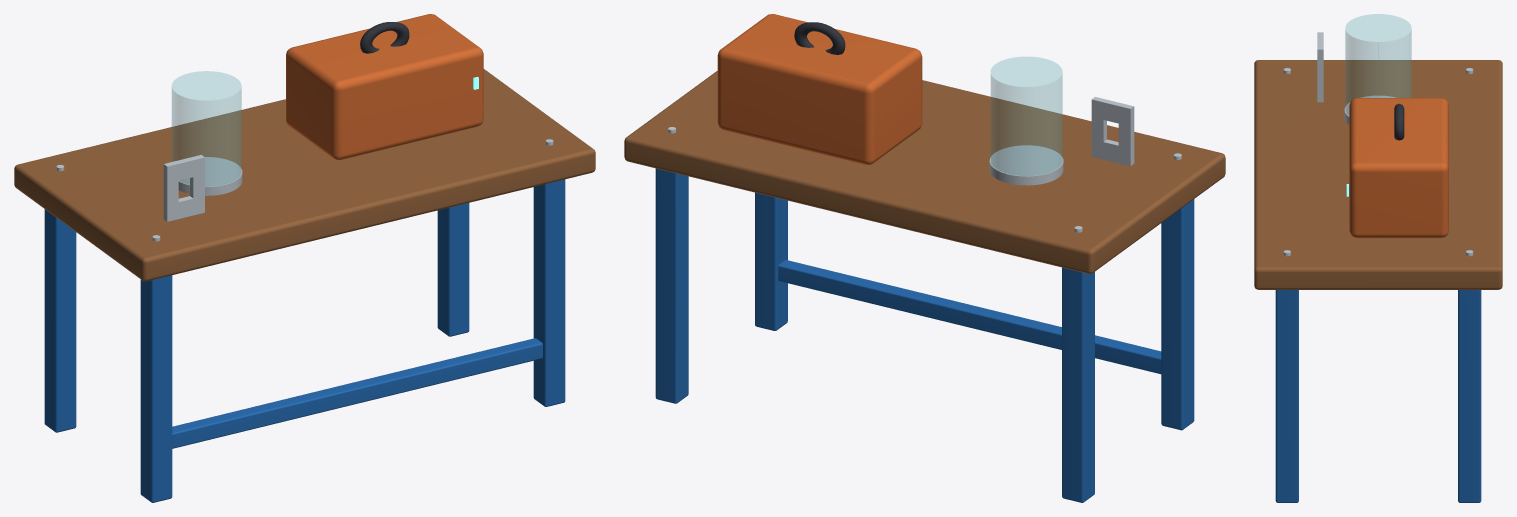
The picture shows the model from 3 angles, left to right: view 1: azimuth 30°, elevation 25°; view 2: azimuth 150°, elevation 25°; view 3: azimuth 270°, elevation 25°; orthographic projection. The views are drawn at different scales.
Visible parts, largest first — view 1: wood-top, toolbox, crossbar, leg-0-1, leg-1-1, leg-0-0, glass-canister, leg-1-0, profile-hook, canister-base, toolbox-handle; view 2: wood-top, toolbox, crossbar, glass-canister, leg-1-0, leg-0-0, leg-0-1, leg-1-1, canister-base, profile-hook, toolbox-handle; view 3: wood-top, toolbox, glass-canister, leg-1-0, leg-1-1, profile-hook, toolbox-handle.
Boxes of the visible parts, x1,y1,x2,y2 form: wood-top: (14,69,595,281); toolbox: (286,14,483,160); crossbar: (172,338,542,448); leg-0-1: (140,275,172,502); leg-1-1: (533,179,565,406); leg-0-0: (44,209,76,432); glass-canister: (172,71,241,186); leg-1-0: (437,203,469,336); profile-hook: (163,155,204,221); canister-base: (178,157,242,195); toolbox-handle: (360,22,409,53); wood-top: (624,71,1225,273); toolbox: (717,14,922,165); crossbar: (778,260,1161,374); glass-canister: (991,57,1062,175); leg-1-0: (655,168,688,403); leg-0-0: (1062,267,1094,502); leg-0-1: (1161,199,1194,430); leg-1-1: (755,192,787,330); canister-base: (989,145,1063,185); profile-hook: (1091,97,1134,165); toolbox-handle: (794,22,845,54); wood-top: (1254,60,1502,289); toolbox: (1349,98,1448,238); glass-canister: (1345,14,1411,115); leg-1-0: (1458,290,1481,502); leg-1-1: (1275,290,1298,502); profile-hook: (1317,32,1323,102); toolbox-handle: (1394,103,1404,140).
Size of the model in its own units: 6 by 4.56 by 3.
